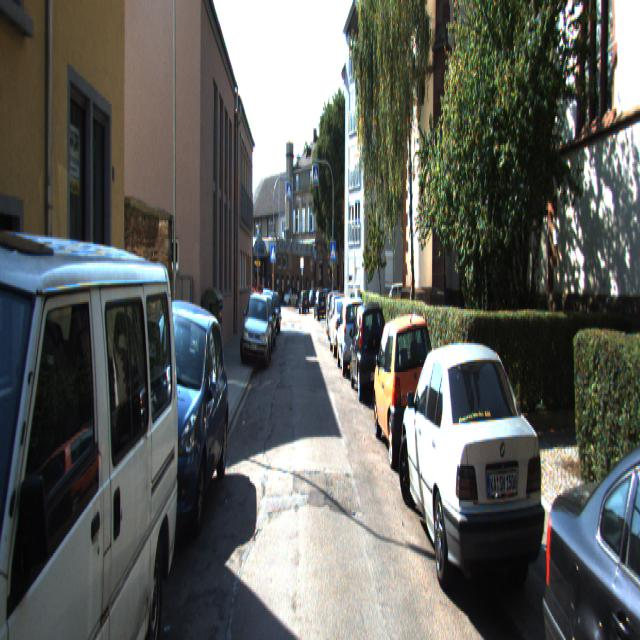Car: (0, 133, 185, 639), (398, 325, 556, 615), (538, 374, 640, 638), (120, 294, 229, 540), (372, 310, 441, 470), (350, 298, 391, 398), (336, 294, 368, 374), (242, 288, 272, 368), (329, 296, 354, 358)
